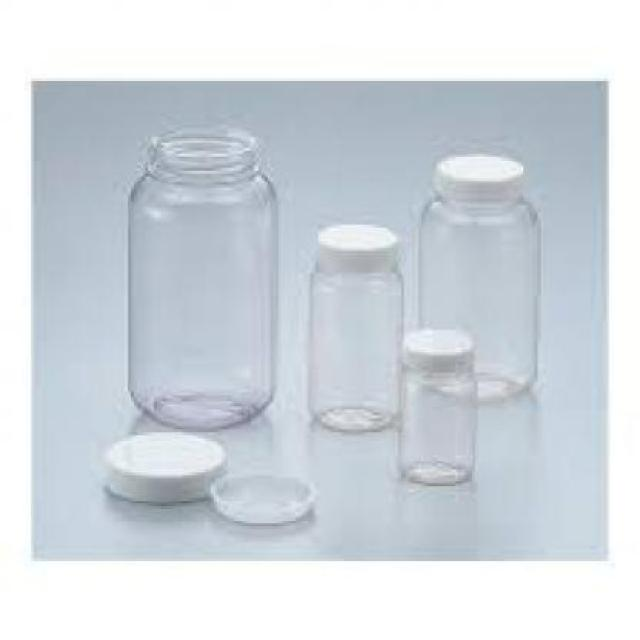kaca: (123, 130, 271, 424), (416, 191, 536, 395), (307, 262, 398, 429), (396, 365, 476, 486)
